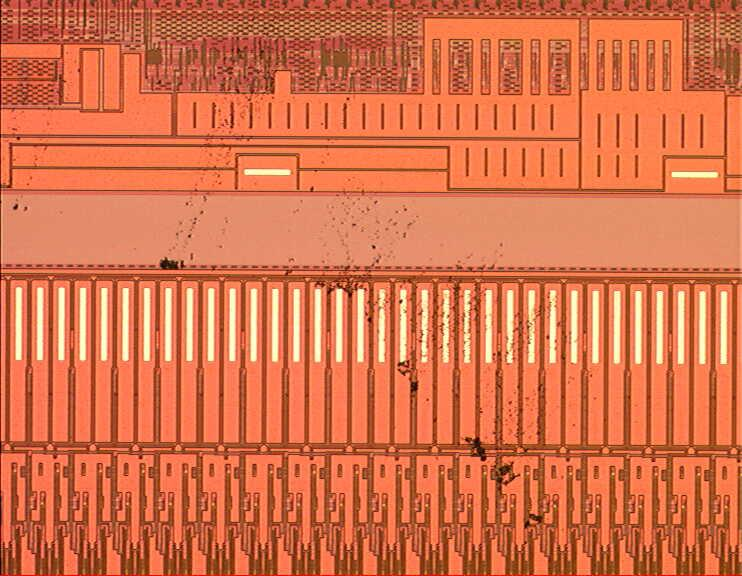PO CONTAMINATION: (8, 55, 573, 535)
